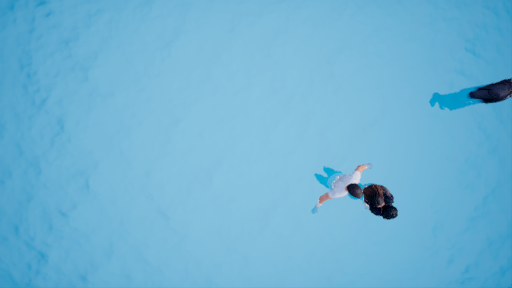person: (302, 150, 375, 209), (421, 70, 512, 115), (354, 169, 406, 222)
